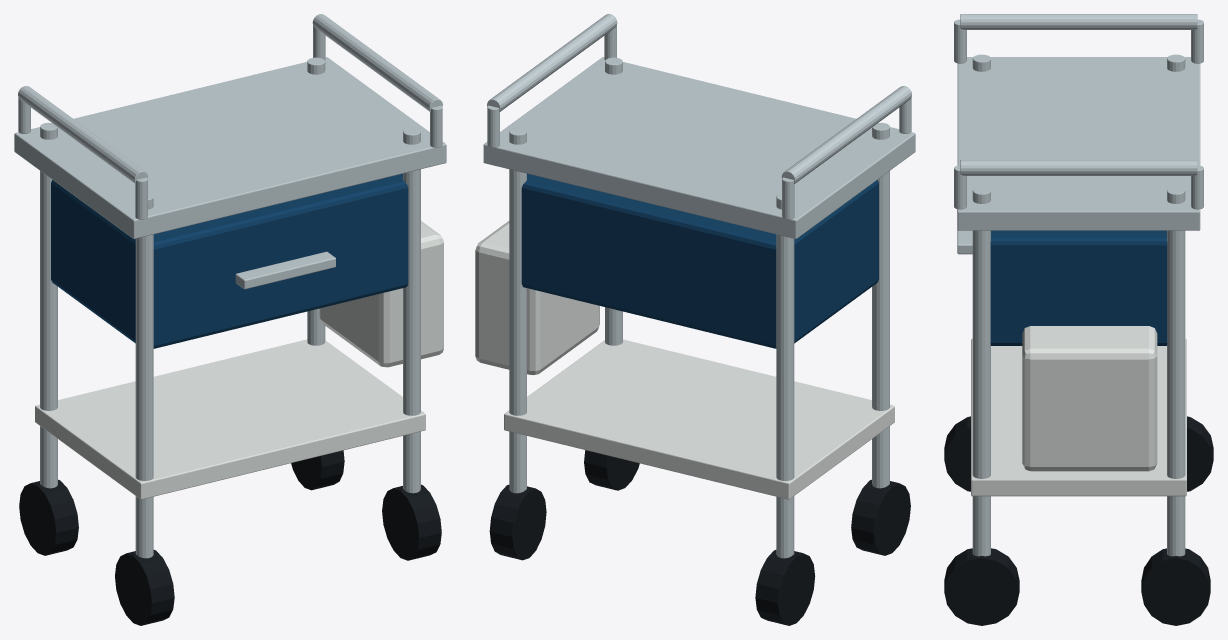
Rendered from edited.glb.
3 renders of one model, left to right at view 1: azimuth 30°, elevation 25°; view 2: azimuth 150°, elevation 25°; view 3: azimuth 270°, elevation 25°, orthographic.
Parts seen in each view (by area): view 1: TOP, DRAWER, LOWER_Shelf, WASTE_Bin, FRAME, FRAME.002, FRAME.001, CASTER.001, CASTER.003, CASTER.002, RAIL, RAIL.001 (+3 smaller); view 2: TOP, DRAWER, LOWER_Shelf, WASTE_Bin, FRAME.001, FRAME.003, FRAME, CASTER.002, CASTER.001, CASTER, RAIL.001, RAIL (+2 smaller); view 3: TOP, WASTE_Bin, DRAWER, LOWER_Shelf, FRAME.003, FRAME.002, CASTER.003, CASTER, RAIL, RAIL.001, CASTER.001, CASTER.002 (+5 smaller).
Boxes of the visible parts, box(x1,y1,x2,y2) form: TOP: box(14, 57, 446, 238); DRAWER: box(51, 173, 408, 348); LOWER_Shelf: box(35, 339, 425, 499); WASTE_Bin: box(319, 221, 443, 367); FRAME: box(135, 193, 153, 558); FRAME.002: box(403, 127, 420, 493); FRAME.001: box(40, 122, 57, 488); CASTER.001: box(115, 550, 174, 625); CASTER.003: box(382, 484, 441, 560); CASTER.002: box(19, 479, 78, 555); RAIL: box(18, 86, 148, 183); RAIL.001: box(312, 14, 442, 111); TOP: box(483, 57, 915, 238); DRAWER: box(521, 173, 878, 348); LOWER_Shelf: box(504, 339, 894, 499); WASTE_Bin: box(475, 221, 599, 375); FRAME.001: box(776, 193, 794, 558); FRAME.003: box(509, 127, 526, 493); FRAME: box(872, 122, 889, 488); CASTER.002: box(755, 550, 815, 625); CASTER.001: box(851, 479, 910, 555); CASTER: box(489, 484, 546, 560); RAIL.001: box(487, 14, 617, 111); RAIL: box(782, 86, 911, 183); TOP: box(957, 57, 1200, 230); WASTE_Bin: box(1022, 326, 1157, 471); DRAWER: box(990, 230, 1167, 345); LOWER_Shelf: box(971, 338, 1186, 496); FRAME.003: box(1167, 186, 1185, 556); FRAME.002: box(972, 186, 990, 556); CASTER.003: box(944, 548, 1019, 625); CASTER: box(1141, 548, 1210, 625); RAIL: box(960, 14, 1197, 29); RAIL.001: box(960, 160, 1197, 175); CASTER.001: box(944, 416, 970, 491); CASTER.002: box(1187, 416, 1213, 491).
Size of the model in its own units: 0.75 by 0.955 by 0.5.
